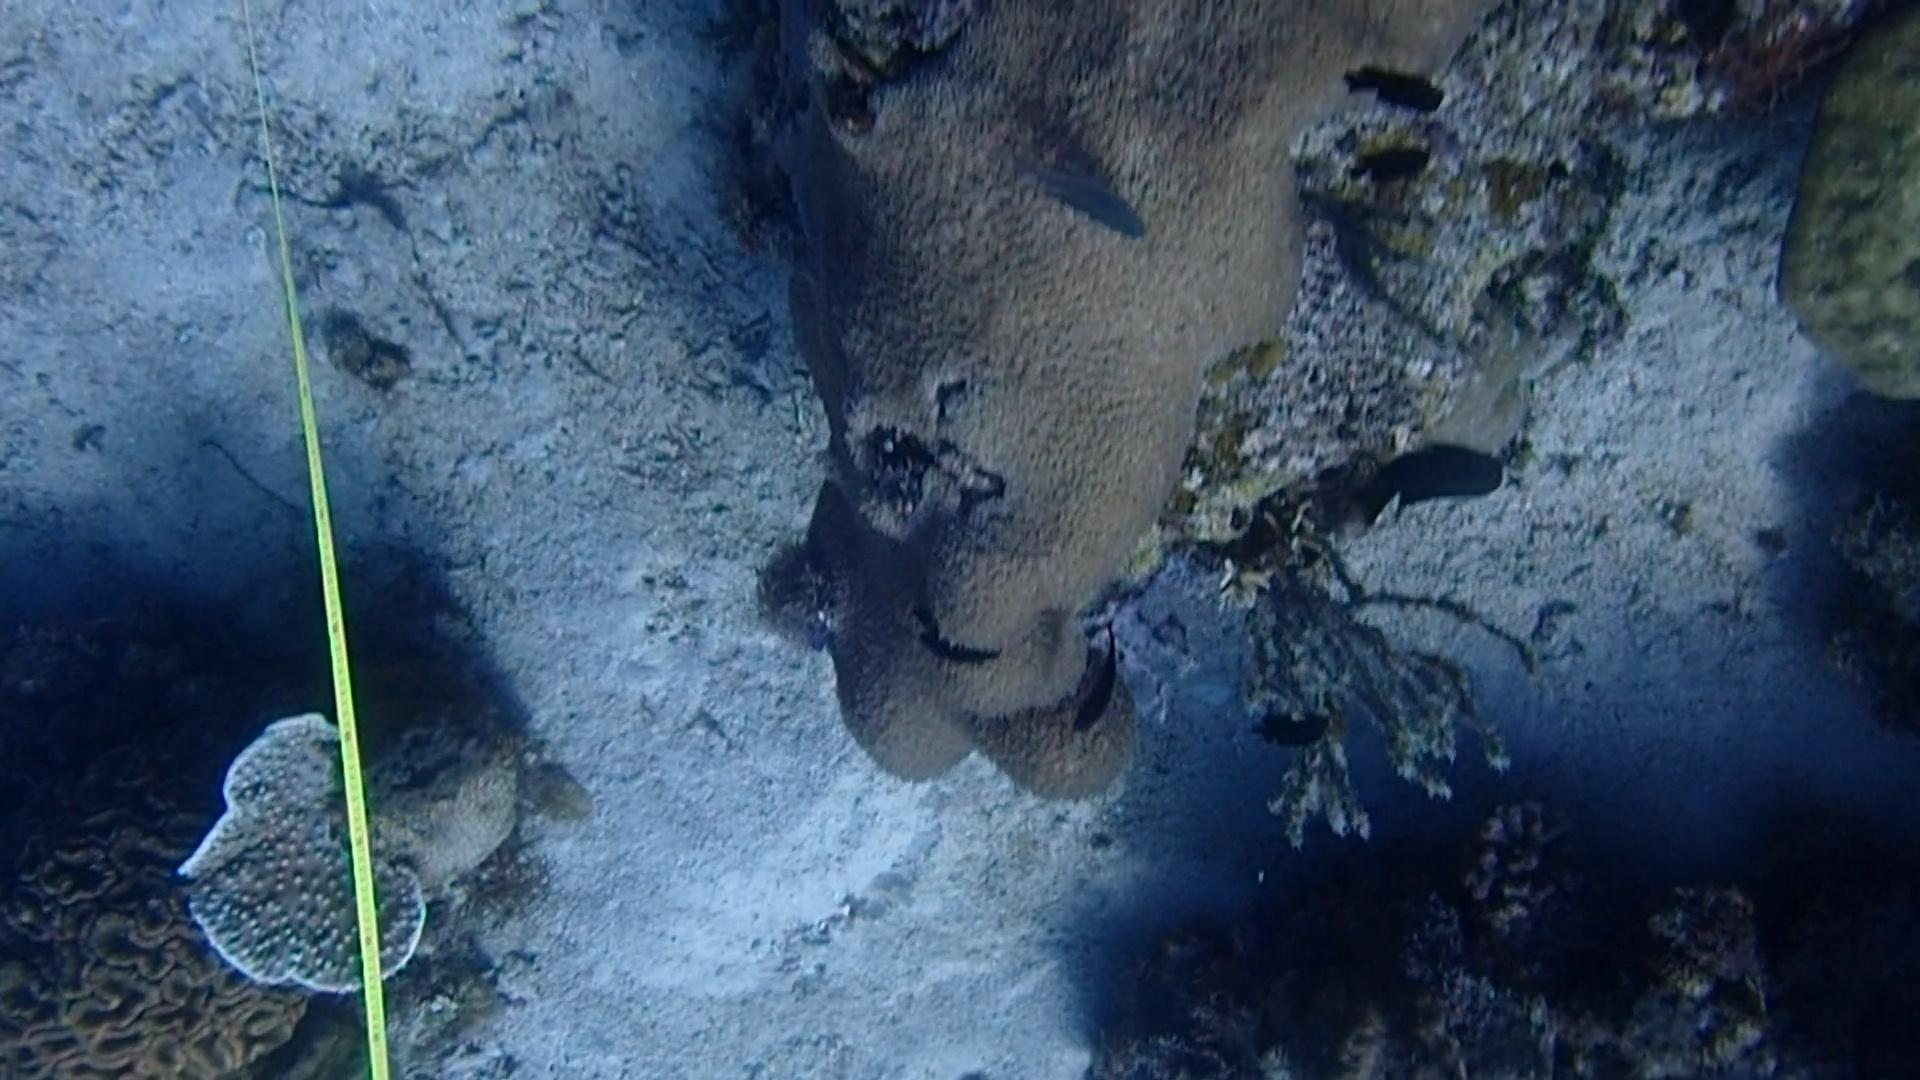Big Dark Blue Fish: (1346, 440, 1523, 521)
Dark Fish: (898, 603, 1013, 687), (1335, 46, 1448, 125), (1062, 653, 1139, 746), (1338, 129, 1440, 193), (1246, 707, 1353, 764)
Light Fish: (1038, 156, 1155, 248)
